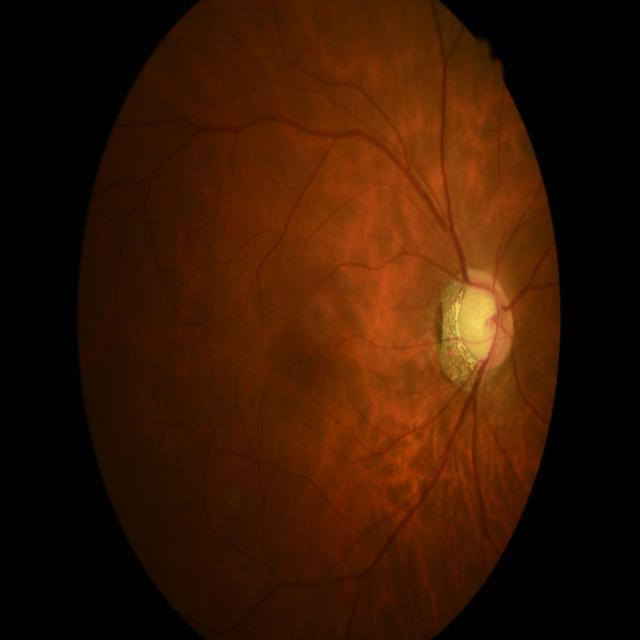cup: (462, 286, 500, 360)
disk: (459, 269, 515, 370)
